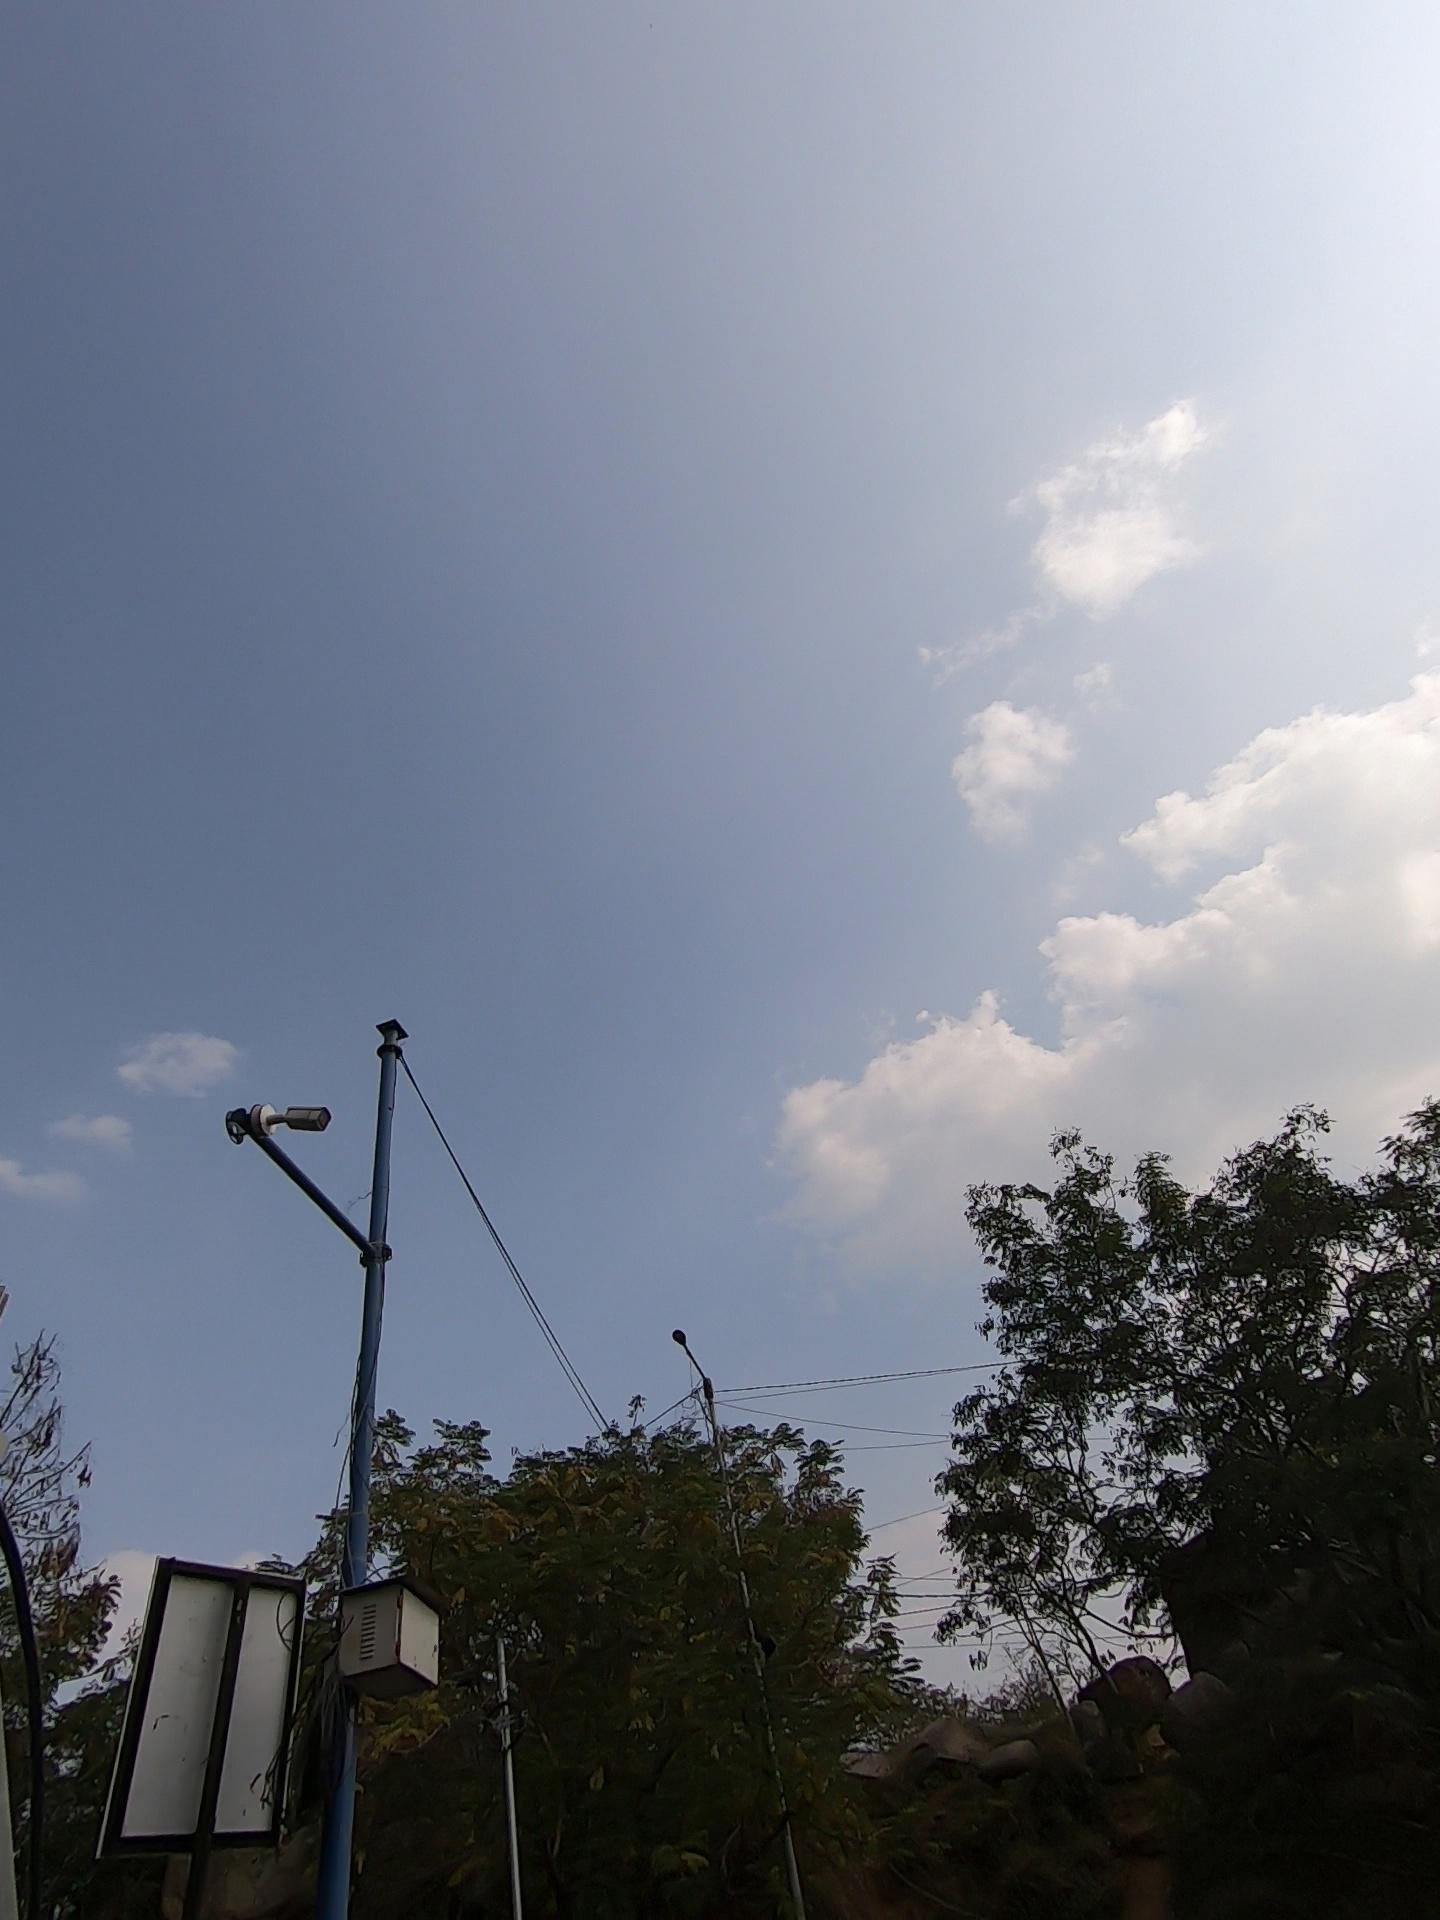off: (150, 931, 508, 1412)
